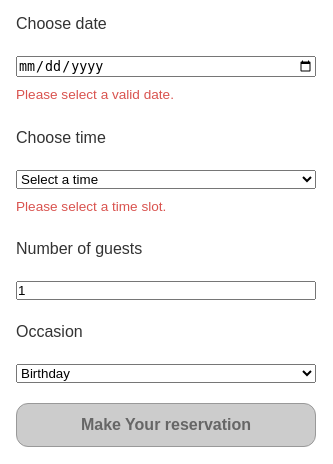
Scenario: Submit button disables when guest count is out of valid range (e.g. 0)
Note: Enter invalid guest count of 0
Type "2026-09-01" into the date field labelled "Choose date".
click(166, 67); type("2026-09-01")  # box [16, 56, 316, 77]
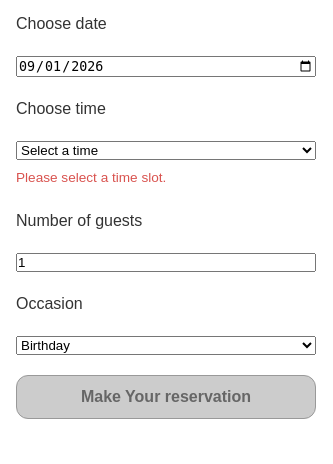
Select "17:00" in the dropdown labelled "Choose time" at (166, 151), box [16, 141, 316, 160]
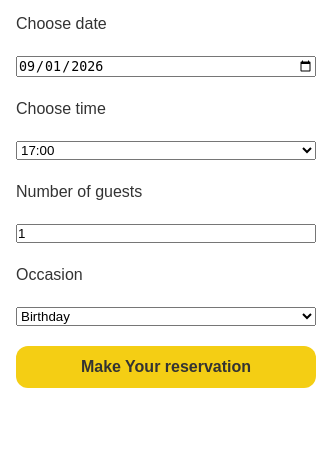
Type "0" into the number field labelled "Number of guests".
click(166, 234); type("0")  # box [16, 224, 316, 243]
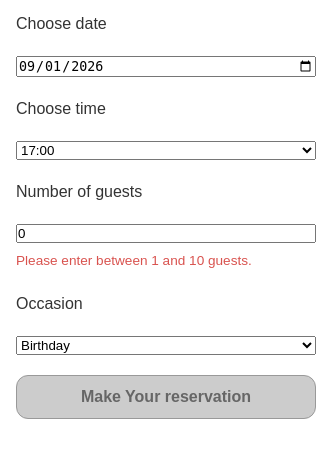
Check: the button with aria-label "On Click" is disabled, box [16, 375, 316, 419]
